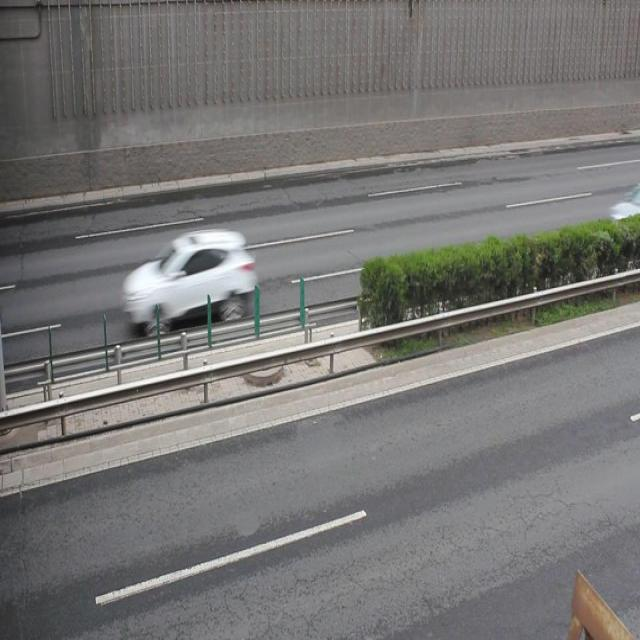car: (123, 231, 257, 340), (607, 180, 640, 244)
